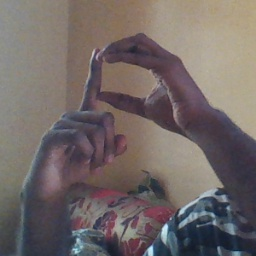P: (52, 29, 198, 182)
